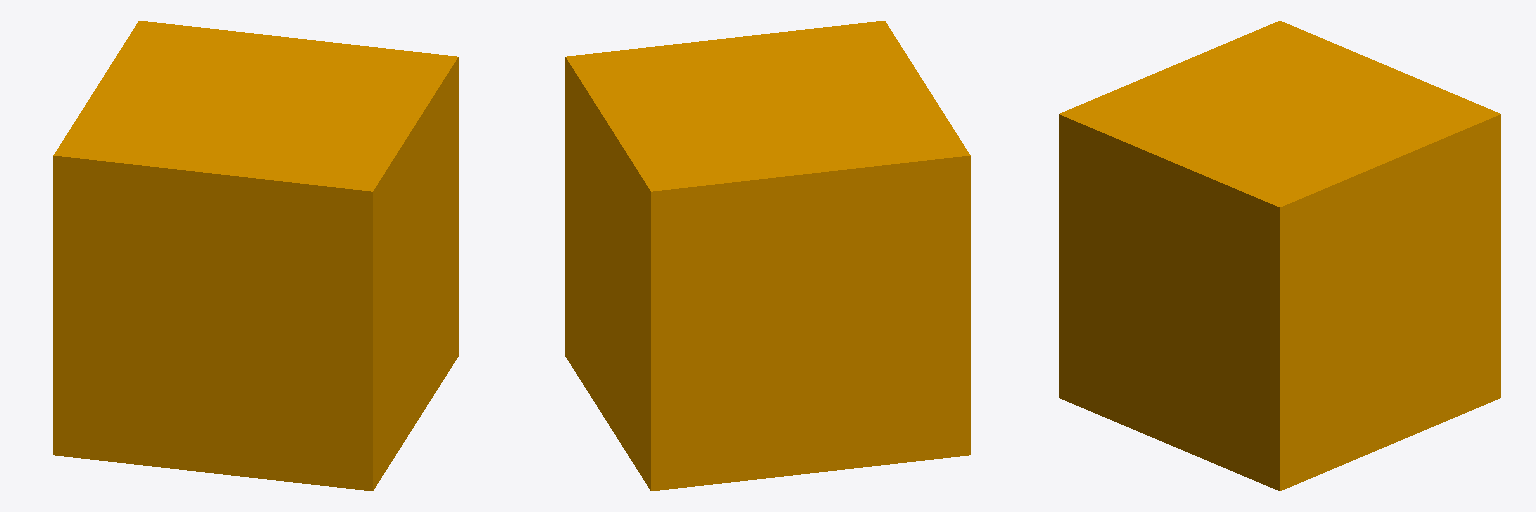
The robot description file, URDF, robot "cube.off":
<?xml version="1.0"?>
<robot name="cube.off">
	<link name="cube.off">
		<inertial>
			<!--origin xyz="0 0 0" rpy="0 0 0" /-->
			<mass value="0.5" />
			<!--inertia ixx="0.000360" ixy="0" ixz="0" iyy="0.0000615" iyz="0" izz="0.00036" /-->
		</inertial>
    		<visual>
	      		<!--origin rpy="0 0 0" xyz="0 0 0"/-->
      			<geometry>
        			<mesh filename="cube.off.obj"/>
      			</geometry>
         	</visual>
    		<collision>
      			<!--origin rpy="0 0 0" xyz="0 0 0"/-->
      			<geometry>
        			<mesh filename="cube.off.obj"/>
      			</geometry>
    		</collision>
	</link>
</robot>

--- Facts derived from the render (not from the file) ---
The picture shows the robot from 3 angles, left to right: view 1: azimuth 30°, elevation 25°; view 2: azimuth 150°, elevation 25°; view 3: azimuth 270°, elevation 25°; orthographic projection.
Model cube.off with 1 links and 0 joints (none), rooted at cube.off, posed all joints at 0.
Visible links, largest first — view 1: cube.off; view 2: cube.off; view 3: cube.off.
Link boxes in pixels (bbox=[...]): cube.off: bbox=[53, 21, 458, 490]; cube.off: bbox=[565, 21, 970, 490]; cube.off: bbox=[1059, 21, 1500, 490].
Size in the robot's own frame: 3.27 by 3.27 by 2.31 metres.
1 mesh visuals loaded from 1 distinct referenced files (1 OBJ).